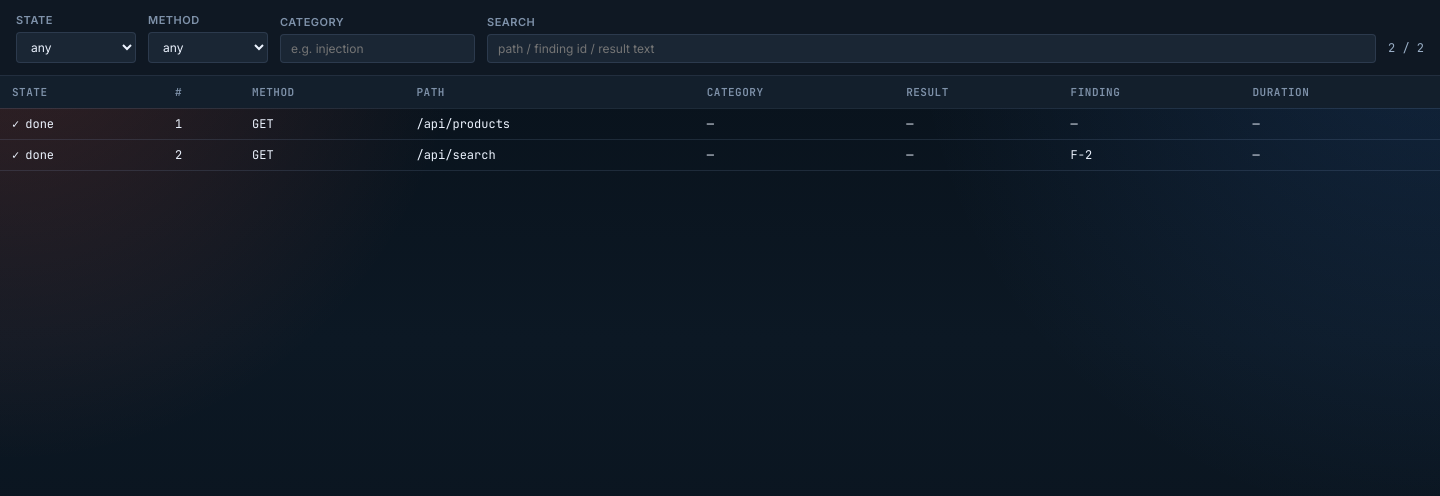
Test case: CasesTab › filters by search query client-side
Expected: the text "/api/products" is shown, 404,108 -> 695,140
Step 1. Type "search" into the field labelled "Search" → (932, 48), box 487,34 -> 1376,62
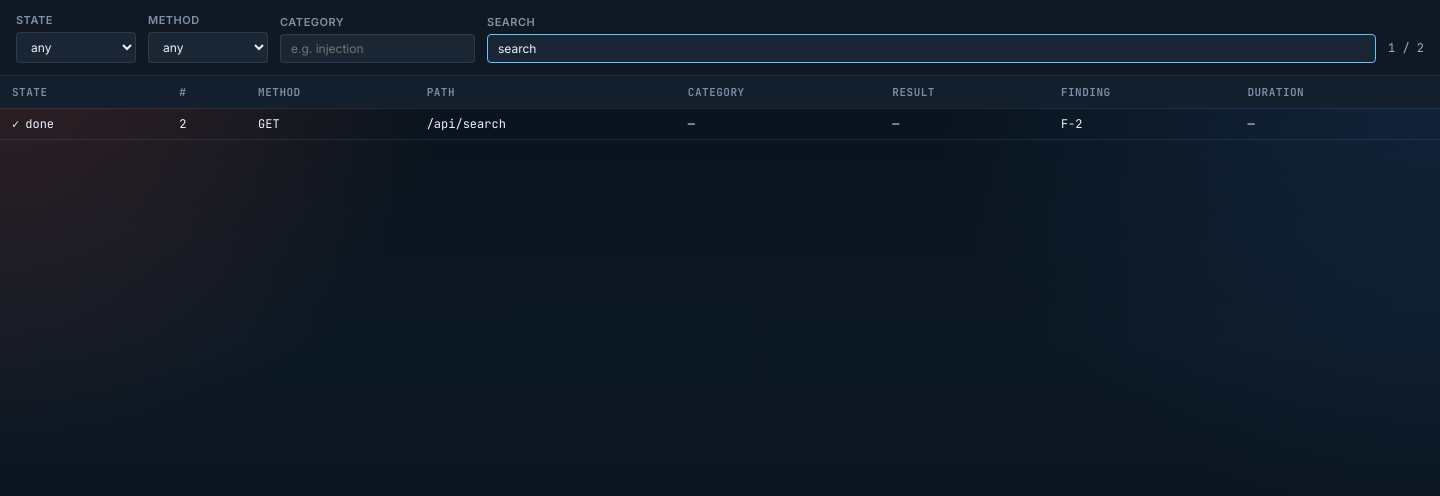
Expected: the text "/api/search" is shown, 415,108 -> 676,140
Now the text "/api/products" is gone
